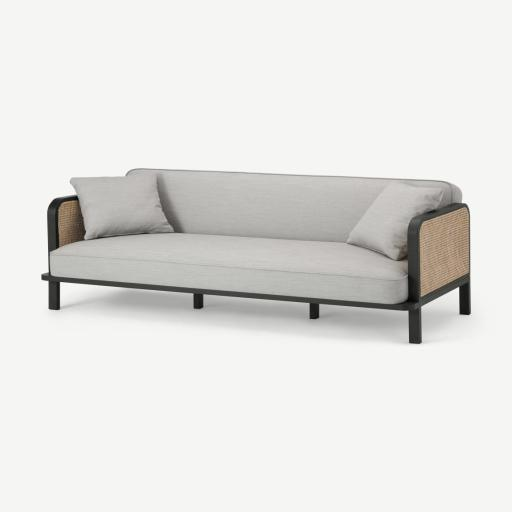back_cushion: (129, 169, 394, 242)
left_arm: (409, 204, 469, 302)
legs: (409, 307, 421, 343), (459, 281, 470, 314), (49, 282, 60, 310), (309, 303, 319, 319), (193, 294, 203, 309)
one-seater: (0, 0, 511, 512)
right_arm: (56, 198, 84, 247)
seat_cushion: (51, 233, 407, 304)
